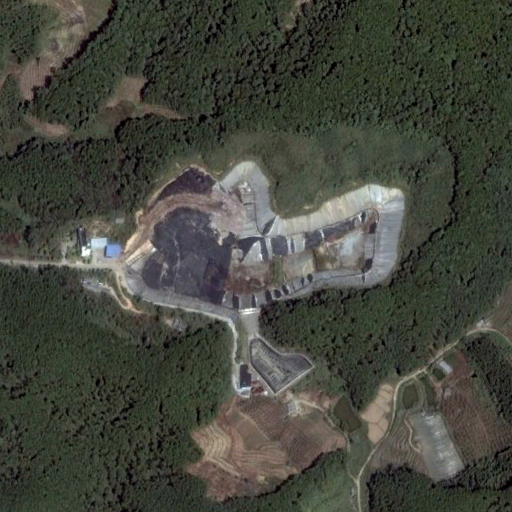lf: (139, 161, 405, 312)
